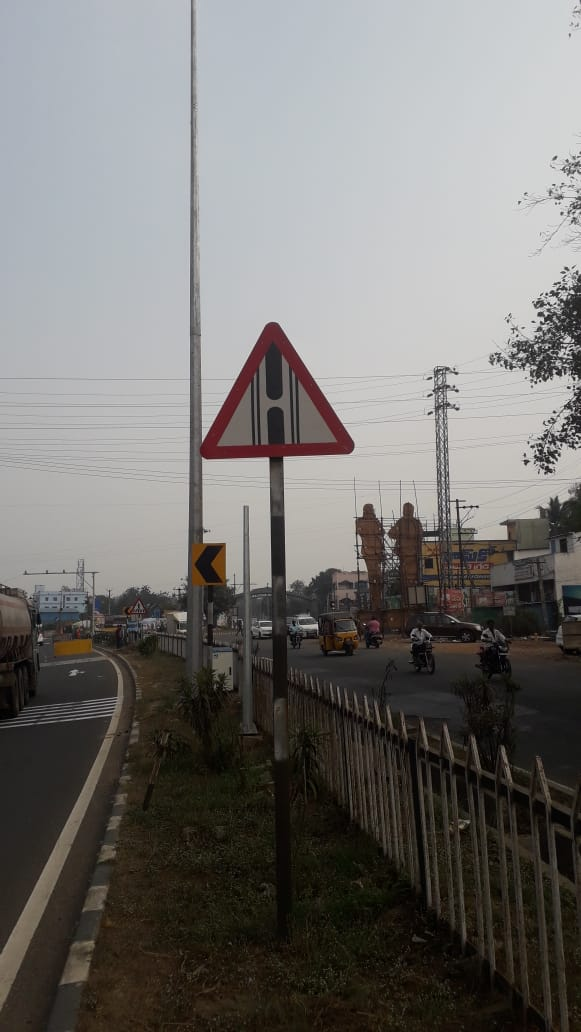highway go straight: (188, 320, 356, 490)
